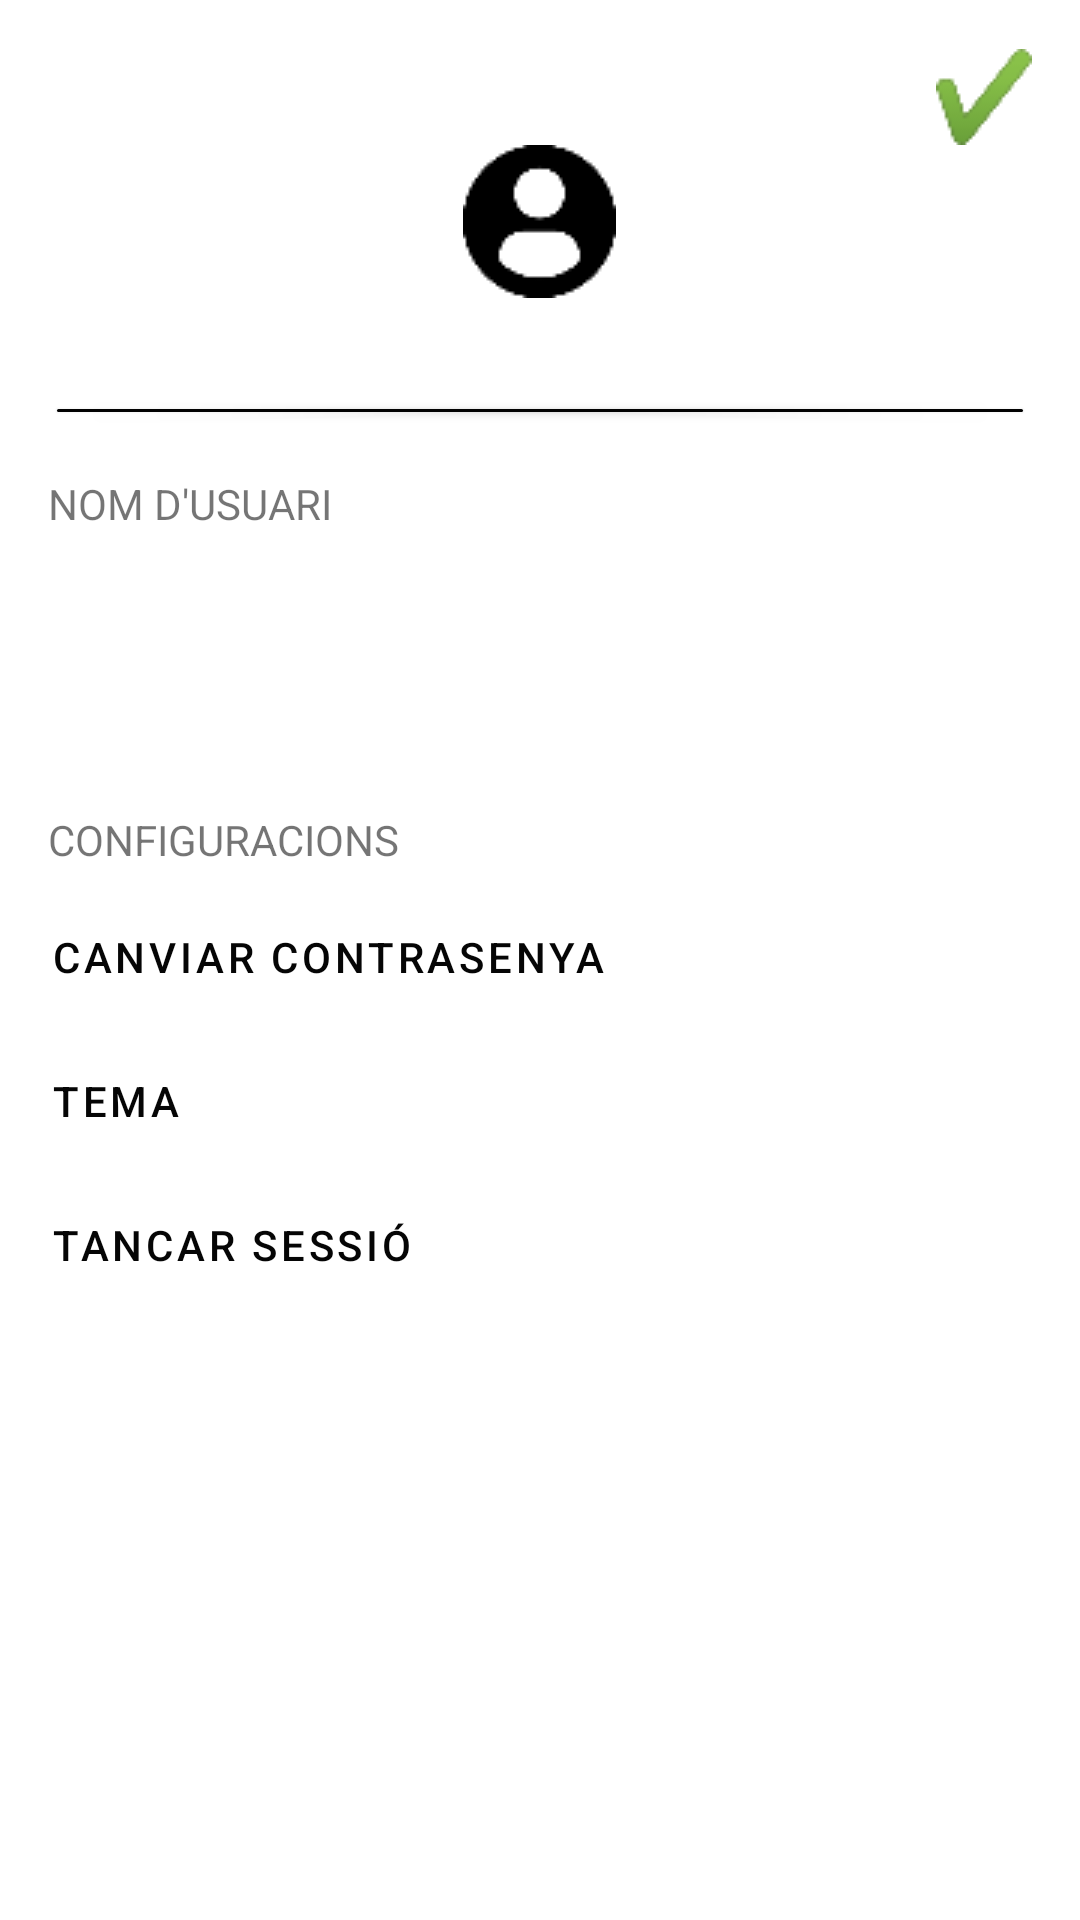

Icons on this 1080x1920 Android screen, each with the point to tap as point (x, y):
usuario de perfil: point (539, 221)
